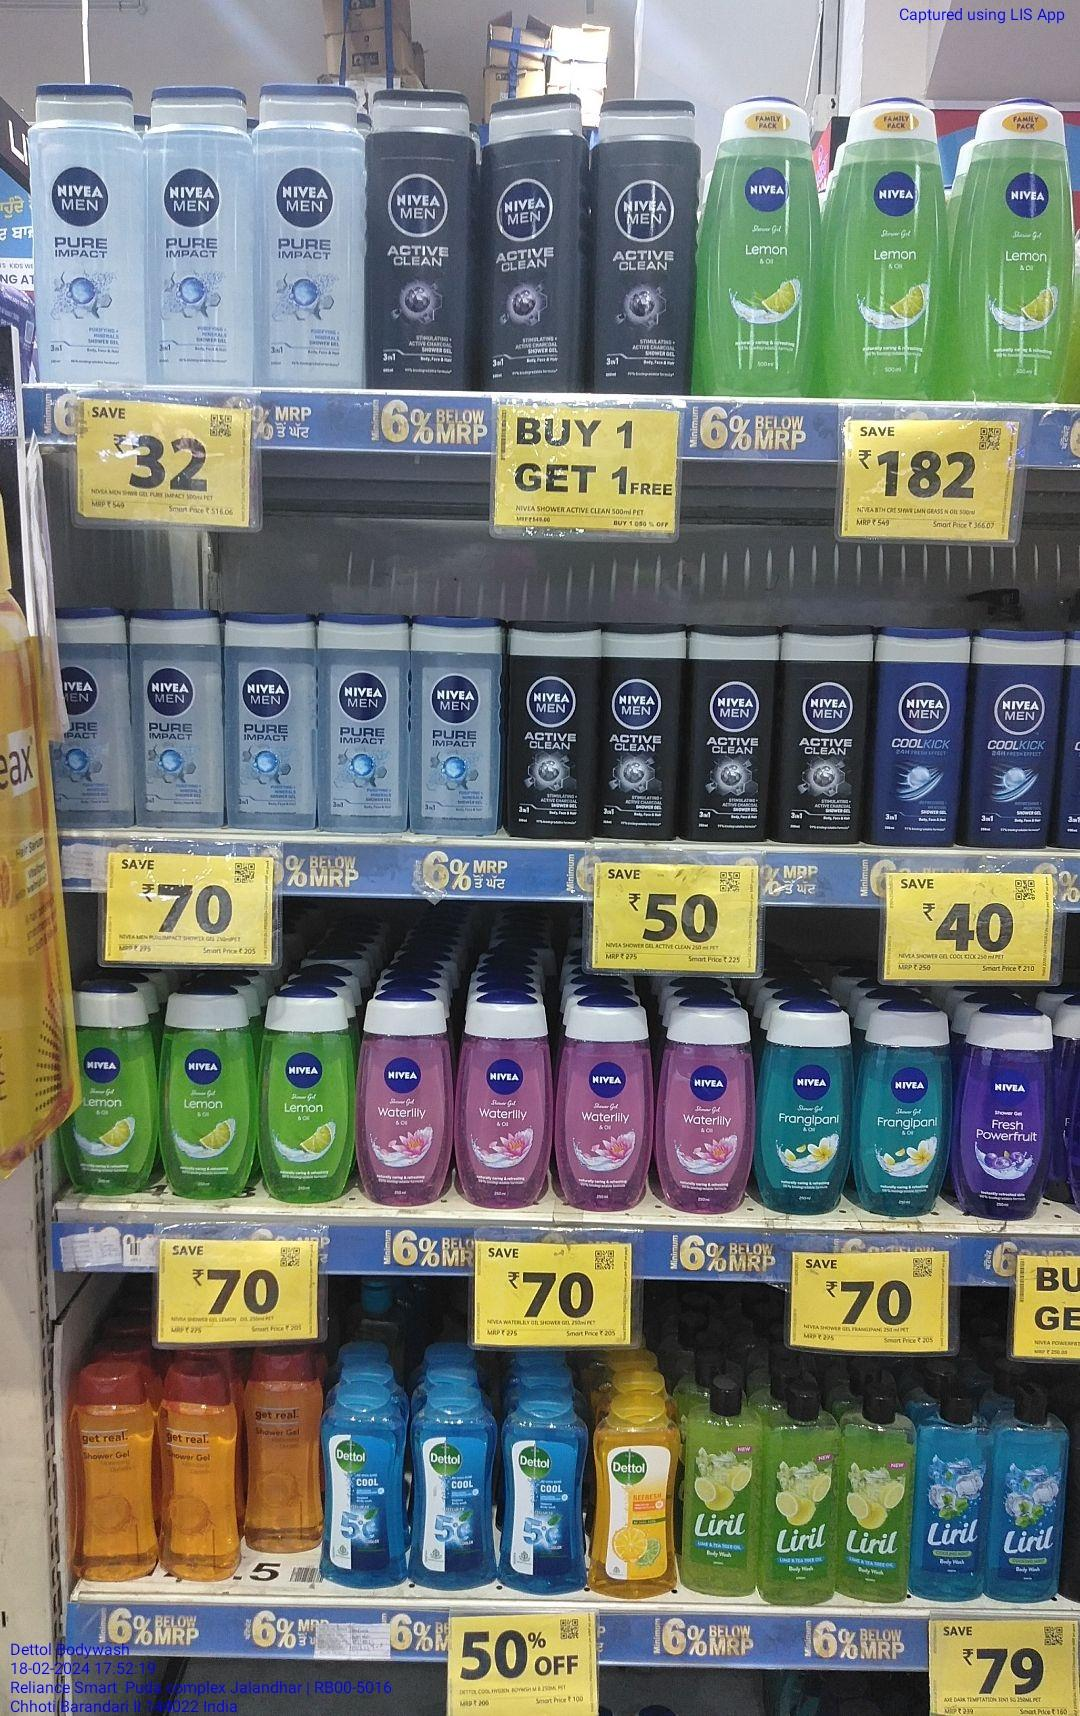Dettol_Bodywash_Cool: (499, 1387, 589, 1597), (409, 1378, 498, 1589), (324, 1384, 408, 1588)
Dettol_Bodywash_Refresh: (591, 1394, 681, 1602)
Get_Real_Shower_Gel_Moisturising_Glycerin_300ML: (67, 1358, 157, 1579), (161, 1361, 243, 1580), (245, 1343, 322, 1552)
Liril_Cooling_Mint_Body_Wash_250ML: (915, 1381, 988, 1599), (992, 1384, 1061, 1603)
Liril_Lime_and_Tea_Tree_Oil_Body_Wash_250ML: (760, 1387, 835, 1608), (683, 1390, 759, 1598), (836, 1392, 907, 1602)
Nivea_Shower_Gel_Frangipani_and_Oil_250ML: (755, 1000, 854, 1217), (856, 1000, 944, 1218)
Nivea_Shower_Gel_Fresh_Powerfruit_250ML: (951, 1004, 1049, 1226)
Nivea_Shower_Gel_Lemon_and_Oil_250ML: (161, 984, 258, 1203), (265, 984, 353, 1206), (70, 982, 158, 1193)
Nivea_Shower_Gel_Waterlily_and_Oil_250ML: (653, 996, 754, 1217), (454, 989, 554, 1208), (357, 988, 454, 1206), (556, 992, 649, 1211)
